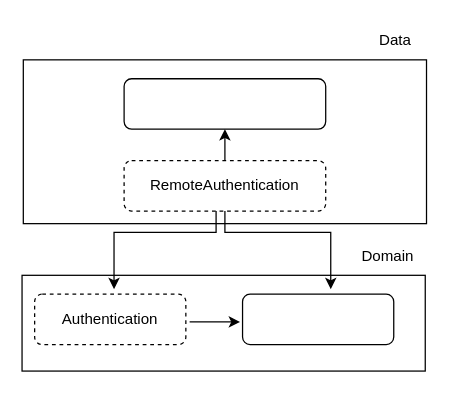
Some shapes in this 449 by 393 pixel diagram are drawn without their labels. Here are the shapes that lost their labels. From the top down, the box of each, then its label:
(123, 77, 326, 129): HttpClient
(241, 293, 394, 345): Account
